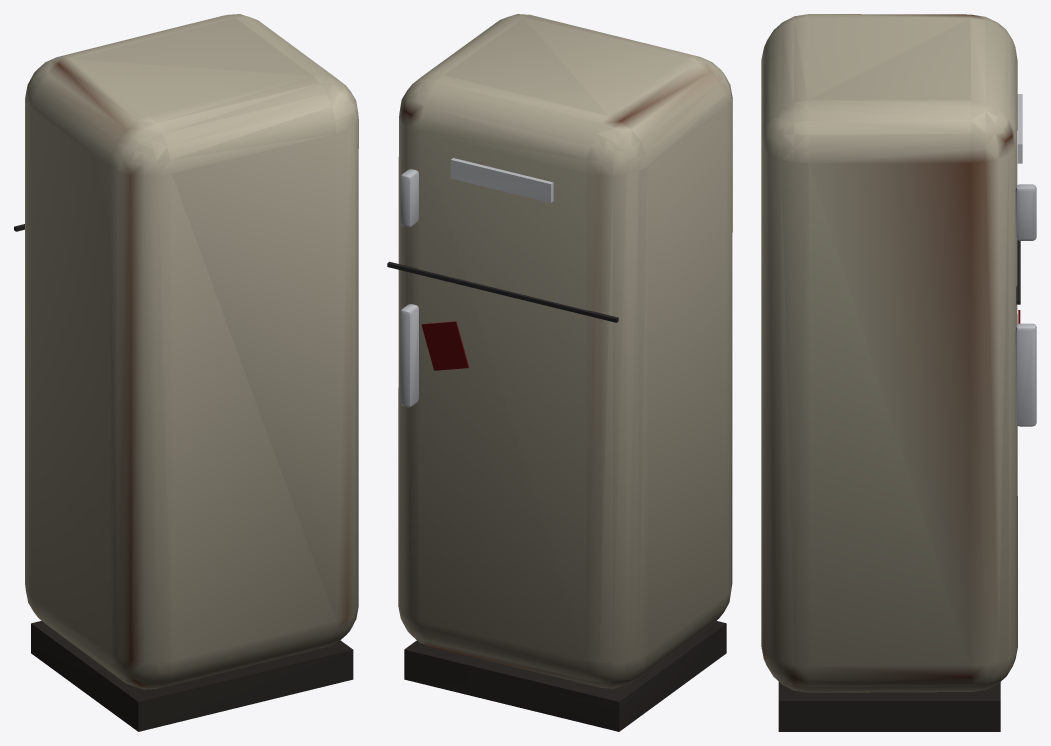
The model's file is Fridge.glb.
3 renders of one model, left to right at view 1: azimuth 30°, elevation 25°; view 2: azimuth 150°, elevation 25°; view 3: azimuth 270°, elevation 25°, orthographic. The views are drawn at different scales.
Parts seen in each view (by area): view 1: Fridge_enamel, Fridge_cast_iron; view 2: Fridge_enamel, Fridge_cast_iron, Fridge_chrome, Fridge_blood; view 3: Fridge_enamel, Fridge_cast_iron, Fridge_chrome.
Part boxes in pixels (x1=…): Fridge_enamel: x1=25, y1=14, x2=358, y2=689; Fridge_cast_iron: x1=14, y1=224, x2=353, y2=731; Fridge_enamel: x1=398, y1=14, x2=732, y2=688; Fridge_cast_iron: x1=387, y1=261, x2=726, y2=731; Fridge_chrome: x1=400, y1=158, x2=553, y2=407; Fridge_blood: x1=421, y1=321, x2=468, y2=370; Fridge_enamel: x1=761, y1=14, x2=1017, y2=692; Fridge_cast_iron: x1=778, y1=240, x2=1020, y2=731; Fridge_chrome: x1=1015, y1=94, x2=1036, y2=426.
Bounding box in the file's own units: 3.41 × 8 × 3.23.
